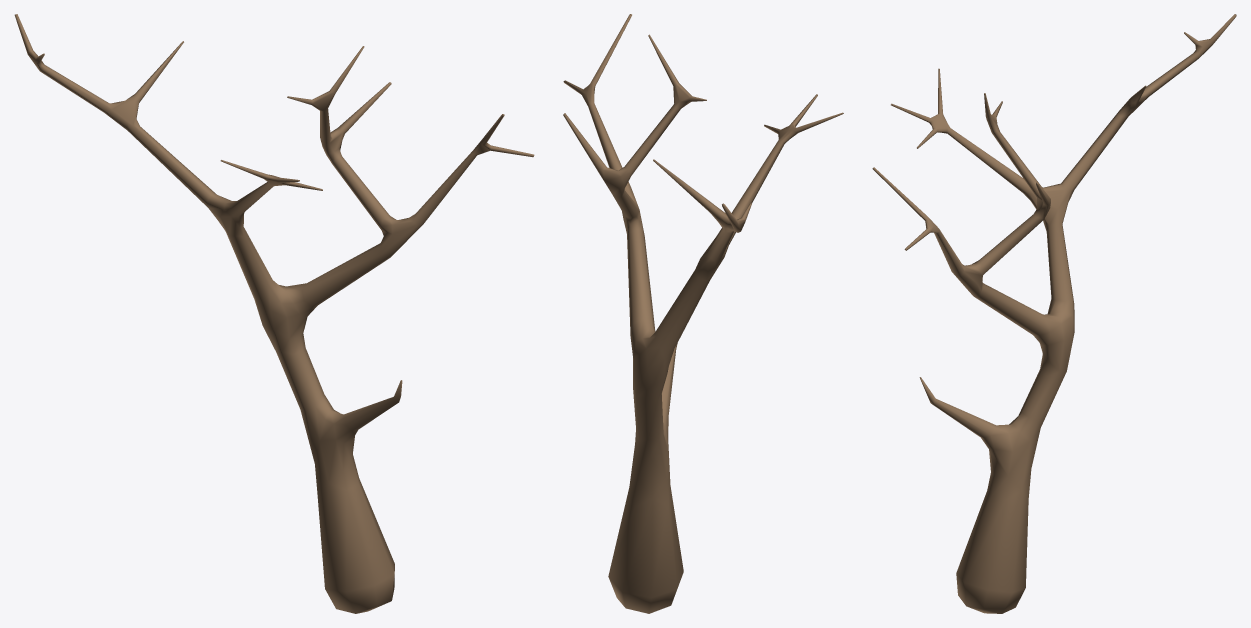
File: Tree_Dead_01_LOD02.fbx
3 views of the same model, side by side, from view 1: azimuth 30°, elevation 25°; view 2: azimuth 150°, elevation 25°; view 3: azimuth 270°, elevation 25° (orthographic). The views are drawn at different scales.
Visible parts, largest first — view 1: Tree_Dead_01_LOD02_Geometry; view 2: Tree_Dead_01_LOD02_Geometry; view 3: Tree_Dead_01_LOD02_Geometry.
Boxes of the visible parts, x1=… form: Tree_Dead_01_LOD02_Geometry: x1=14, y1=14, x2=534, y2=613; Tree_Dead_01_LOD02_Geometry: x1=563, y1=14, x2=843, y2=613; Tree_Dead_01_LOD02_Geometry: x1=872, y1=14, x2=1236, y2=613.
Bounding box in the file's own units: 3.46 × 5.51 × 3.51.
